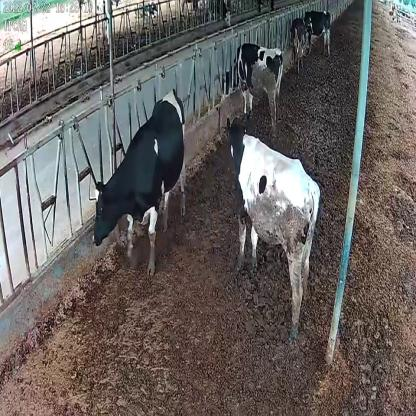cow: (226, 113, 322, 328), (92, 88, 186, 276), (221, 40, 285, 134), (289, 18, 309, 74)
